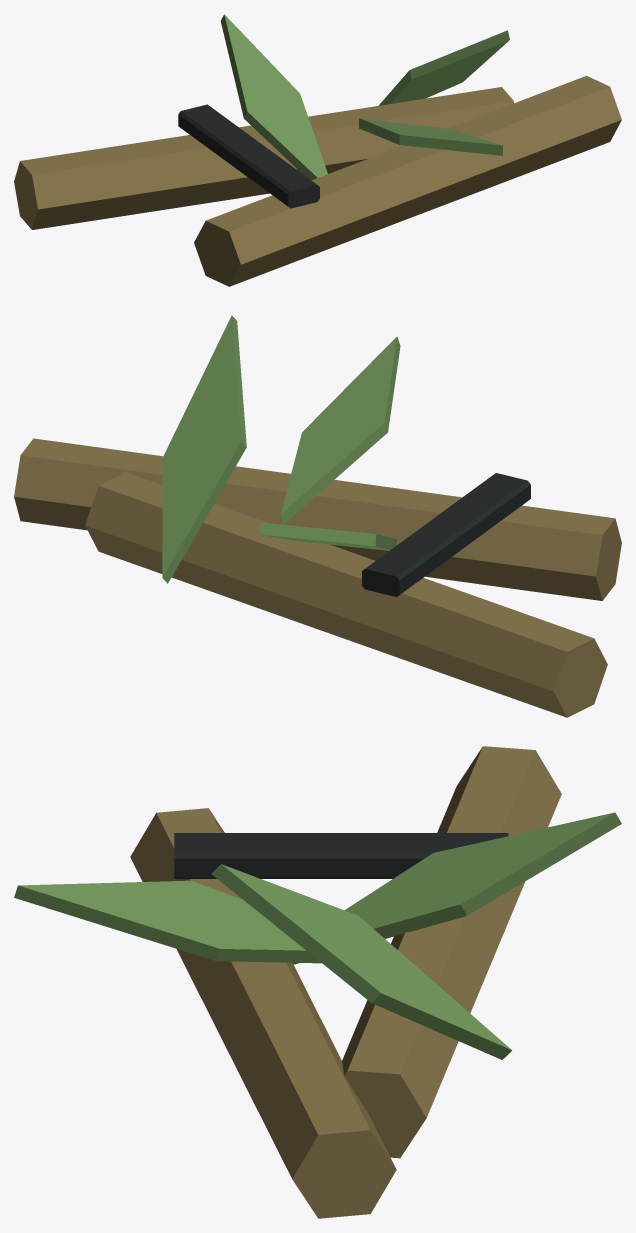
Rendered from Healroot.gltf.
The picture shows the model from 3 angles, top to bottom: view 1: azimuth 30°, elevation 25°; view 2: azimuth 150°, elevation 25°; view 3: azimuth 270°, elevation 25°; orthographic projection. The views are drawn at different scales.
Visible parts, largest first — view 1: Healroot; view 2: Healroot; view 3: Healroot.
Part boxes in pixels (bbox=[...]): Healroot: bbox=[14, 14, 621, 286]; Healroot: bbox=[14, 315, 621, 717]; Healroot: bbox=[14, 746, 621, 1218].
Size of the model in its own units: 0.4177 by 0.1264 by 0.273.
